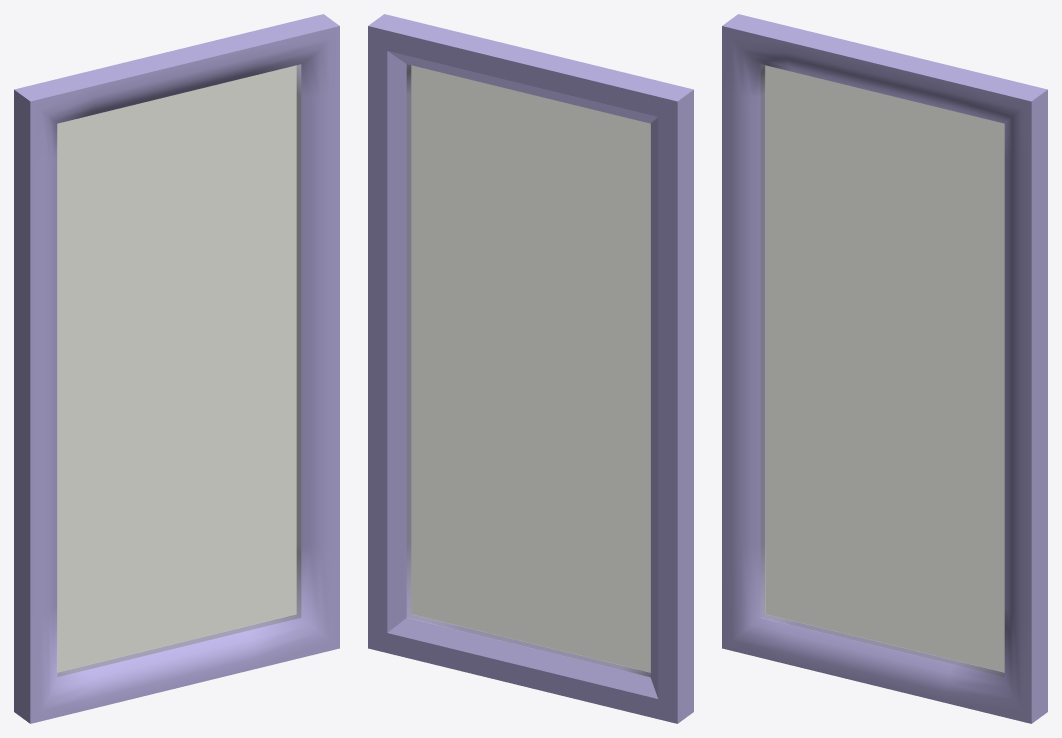
File: Door01Fix.fbx
3 views of the same model, side by side, from view 1: azimuth 30°, elevation 25°; view 2: azimuth 150°, elevation 25°; view 3: azimuth 330°, elevation 25° (orthographic).
Parts seen in each view (by area): view 1: Door.001; view 2: Door.001; view 3: Door.001.
Part boxes in pixels (x1=…): Door.001: x1=14, y1=14, x2=339, y2=723; Door.001: x1=368, y1=14, x2=693, y2=723; Door.001: x1=722, y1=14, x2=1047, y2=723.
Size of the model in its own units: 125 by 239 by 11.42.
